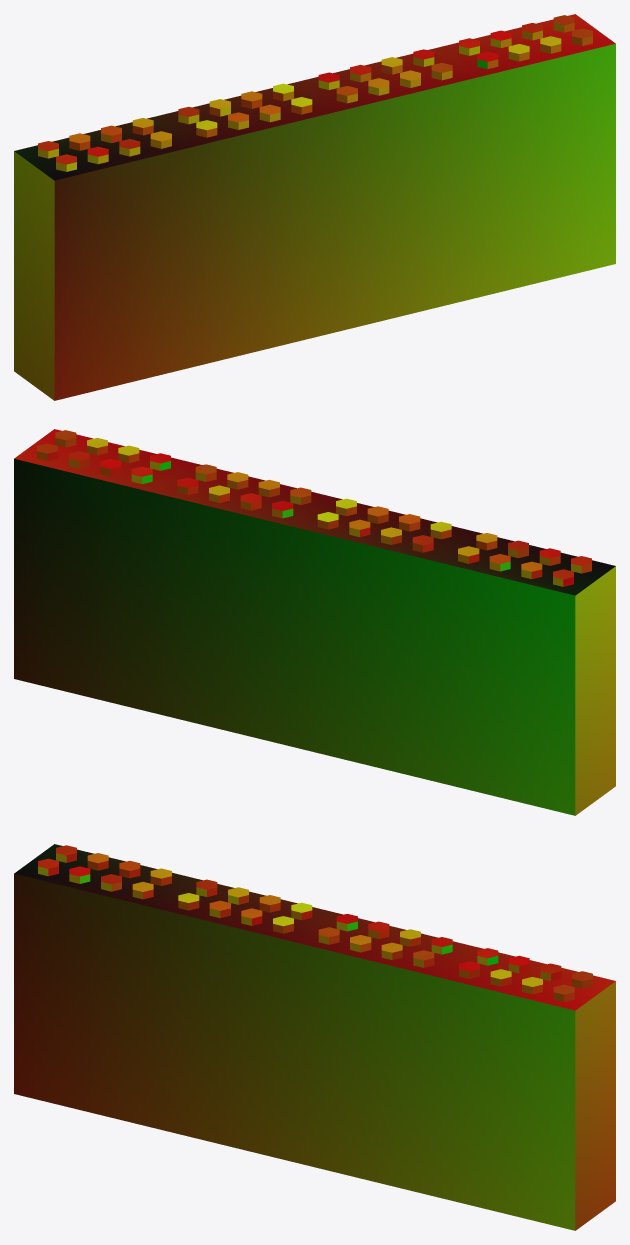
The model's file is dego test.fbx.
3 views of the same model, one above another, from view 1: azimuth 30°, elevation 25°; view 2: azimuth 150°, elevation 25°; view 3: azimuth 330°, elevation 25° (orthographic).
Visible parts, largest first — view 1: 4x5_top_grid; view 2: 4x5_top_grid; view 3: 4x5_top_grid.
Boxes of the visible parts, bbox=[...] form: 4x5_top_grid: bbox=[14, 14, 615, 400]; 4x5_top_grid: bbox=[14, 429, 615, 815]; 4x5_top_grid: bbox=[14, 844, 615, 1230].
Size of the model in its own units: 1280 by 496 by 160.
